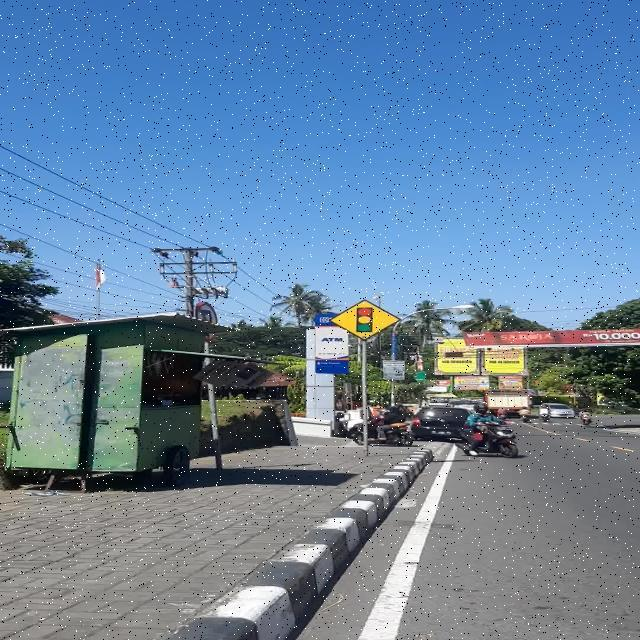Lampu Lalu Lintas: (330, 300, 400, 340)
